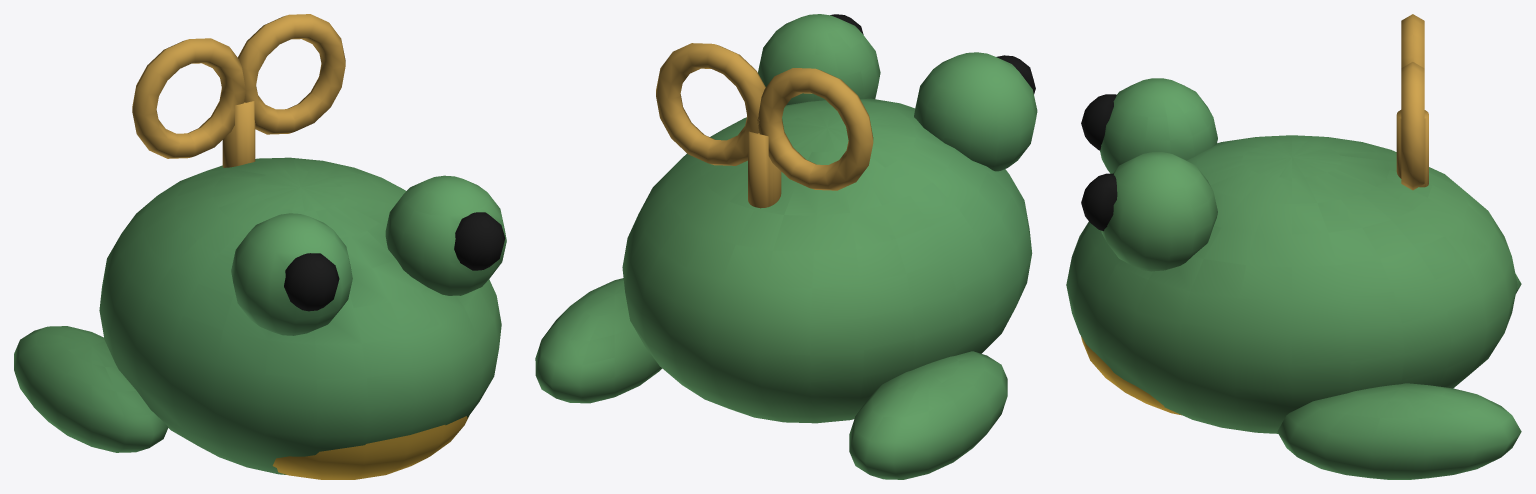
File: den_windup_frog.glb
The picture shows the model from 3 angles, left to right: view 1: azimuth 30°, elevation 25°; view 2: azimuth 150°, elevation 25°; view 3: azimuth 270°, elevation 25°; orthographic projection. The views are drawn at different scales.
Parts seen in each view (by area): view 1: den_windup_frog; view 2: den_windup_frog; view 3: den_windup_frog.
Boxes of the visible parts, x1,y1,x2,y2 form: den_windup_frog: [14, 14, 506, 479]; den_windup_frog: [535, 14, 1037, 479]; den_windup_frog: [1066, 14, 1521, 479].
Size of the model in its own units: 3.42 by 3.03 by 3.39.
